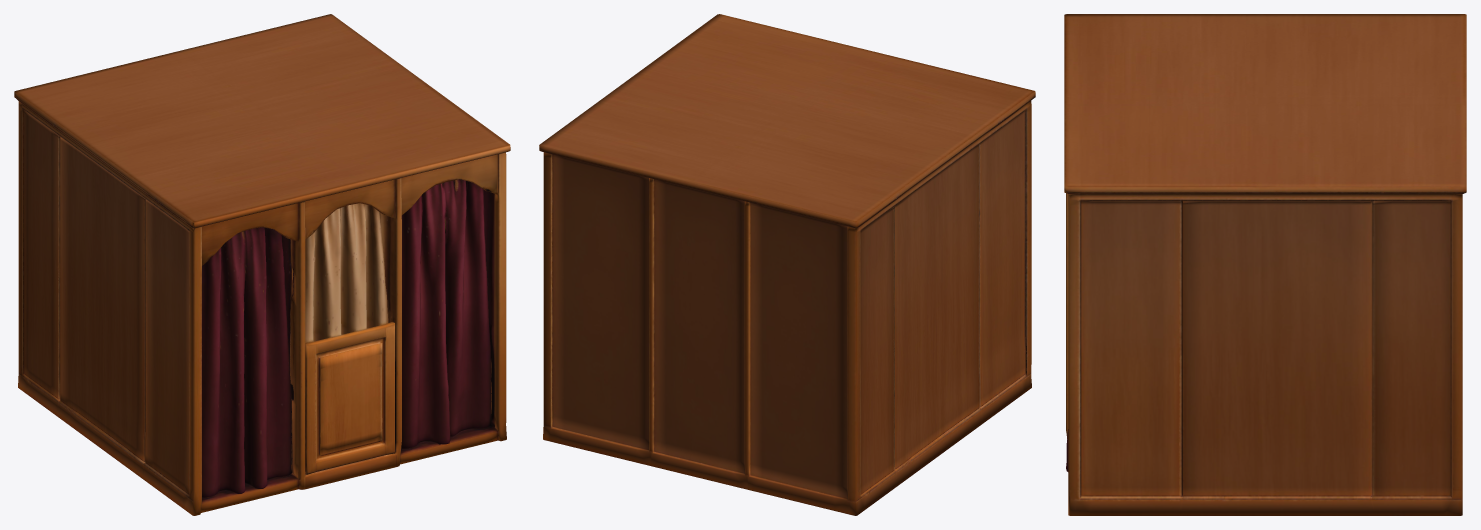
The model's file is capilla.glb.
3 renders of one model, left to right at view 1: azimuth 30°, elevation 25°; view 2: azimuth 150°, elevation 25°; view 3: azimuth 270°, elevation 25°, orthographic. The views are drawn at different scales.
Visible parts, largest first — view 1: tripo_node_471f90c5-0da1-4700-aad7-733aff88386a; view 2: tripo_node_471f90c5-0da1-4700-aad7-733aff88386a; view 3: tripo_node_471f90c5-0da1-4700-aad7-733aff88386a.
Part boxes in pixels (bbox=[...]): tripo_node_471f90c5-0da1-4700-aad7-733aff88386a: bbox=[14, 14, 510, 515]; tripo_node_471f90c5-0da1-4700-aad7-733aff88386a: bbox=[539, 14, 1035, 515]; tripo_node_471f90c5-0da1-4700-aad7-733aff88386a: bbox=[1064, 14, 1466, 515].
Bounding box in the file's own units: 0.979 × 0.8679 × 0.9598.
1 material, 1 textured.
